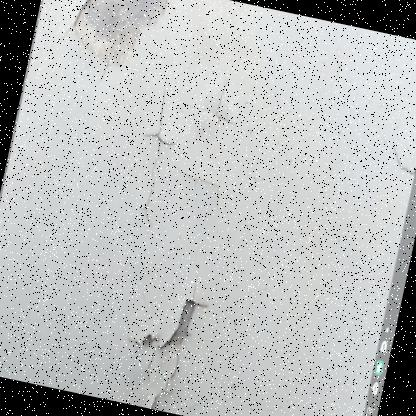Crack: (110, 50, 250, 252), (102, 264, 231, 415), (54, 0, 174, 89), (378, 121, 415, 181)
